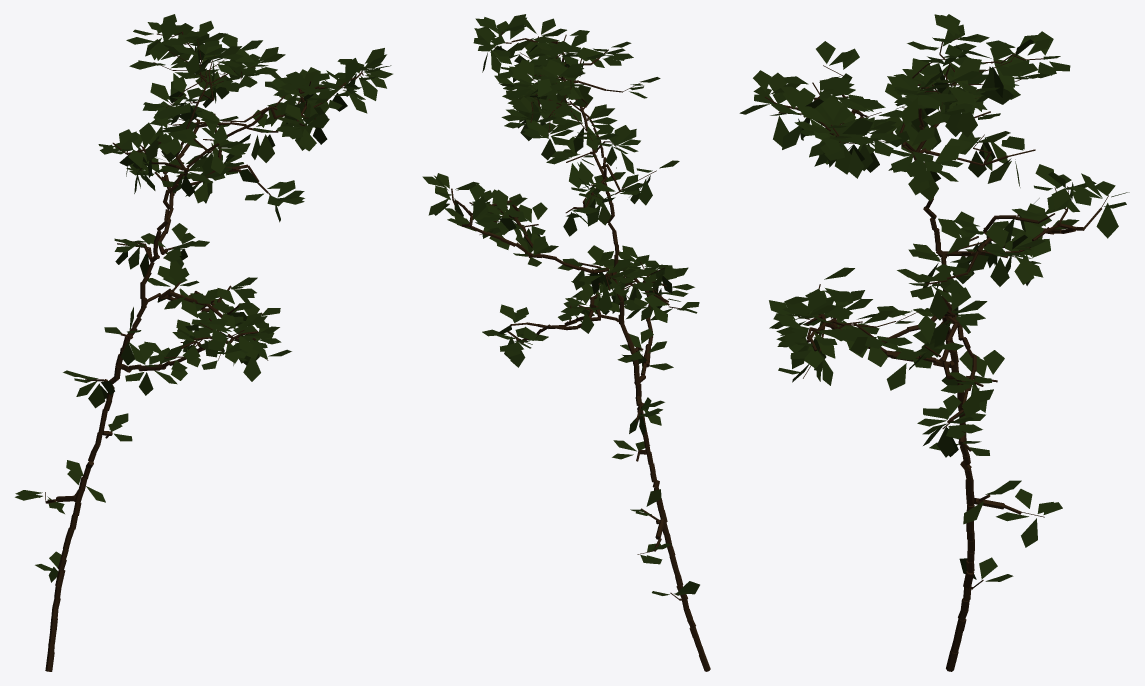
The model's file is tree_487.obj.
The picture shows the model from 3 angles, left to right: view 1: azimuth 30°, elevation 25°; view 2: azimuth 150°, elevation 25°; view 3: azimuth 270°, elevation 25°; orthographic projection. The views are drawn at different scales.
Visible parts, largest first — view 1: Leaves, TrunkAndBranches; view 2: Leaves, TrunkAndBranches; view 3: Leaves, TrunkAndBranches.
Part boxes in pixels (bbox=[...]): Leaves: bbox=[15, 14, 392, 582]; TrunkAndBranches: bbox=[45, 31, 363, 671]; Leaves: bbox=[422, 14, 699, 595]; TrunkAndBranches: bbox=[451, 32, 710, 671]; Leaves: bbox=[739, 14, 1129, 581]; TrunkAndBranches: bbox=[764, 38, 1108, 671].
Size of the model in its own units: 3.5 by 6.77 by 3.26.
